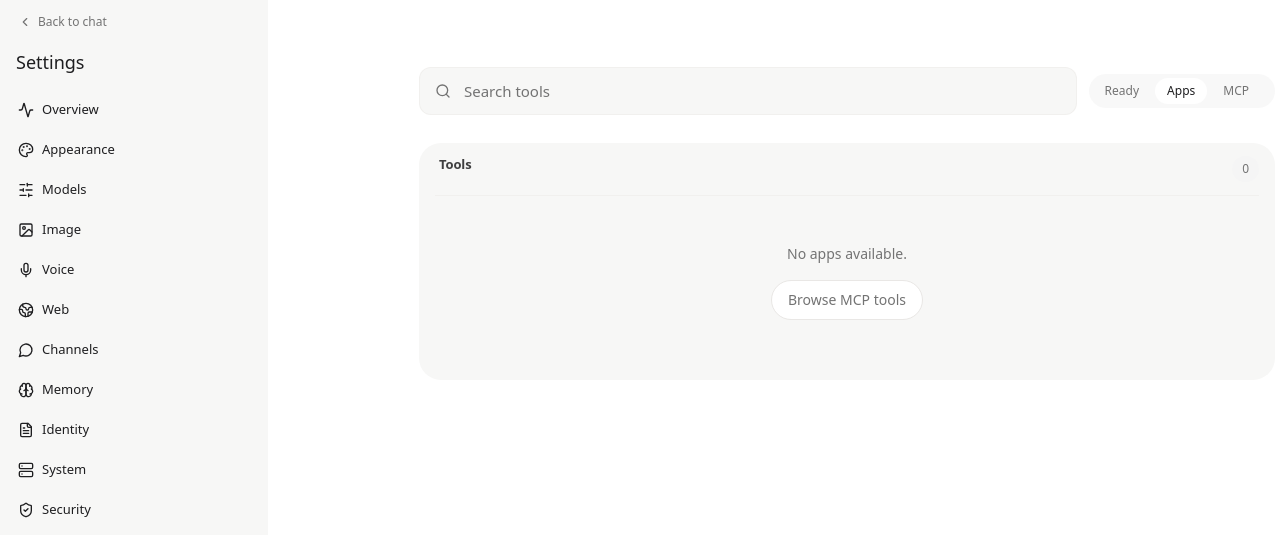
Scenario: Settings overview and appearance › does not keep Apps loading while an empty CLI catalog refresh is pending
Expected: the text "No apps available." is shown, [787, 244, 907, 262]
Click the button "Browse MCP tools" at (847, 300), box [771, 280, 923, 320]
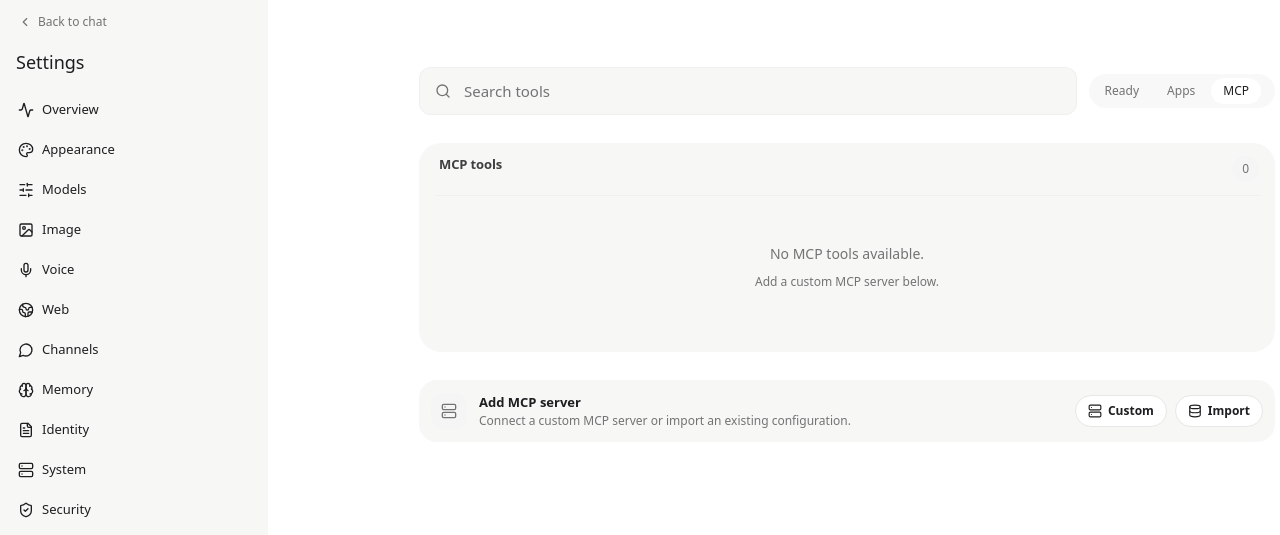
Now the heading "Add MCP server" is shown, box [479, 392, 581, 410]
